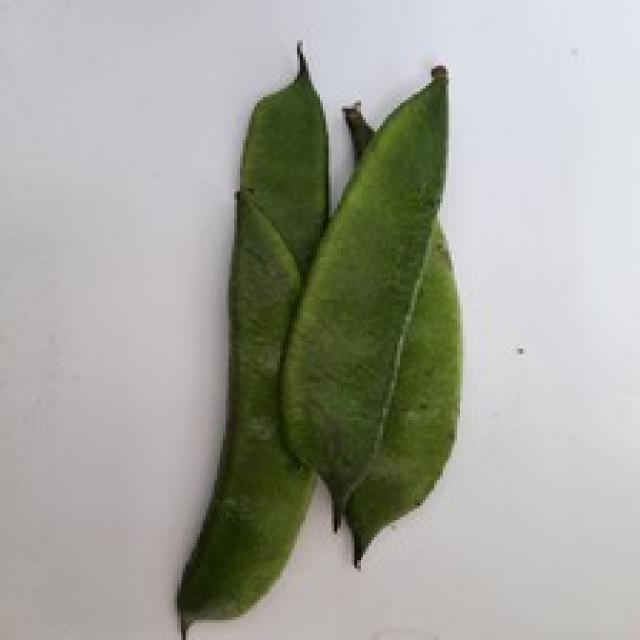Bean: (274, 63, 460, 566), (174, 37, 329, 637)
